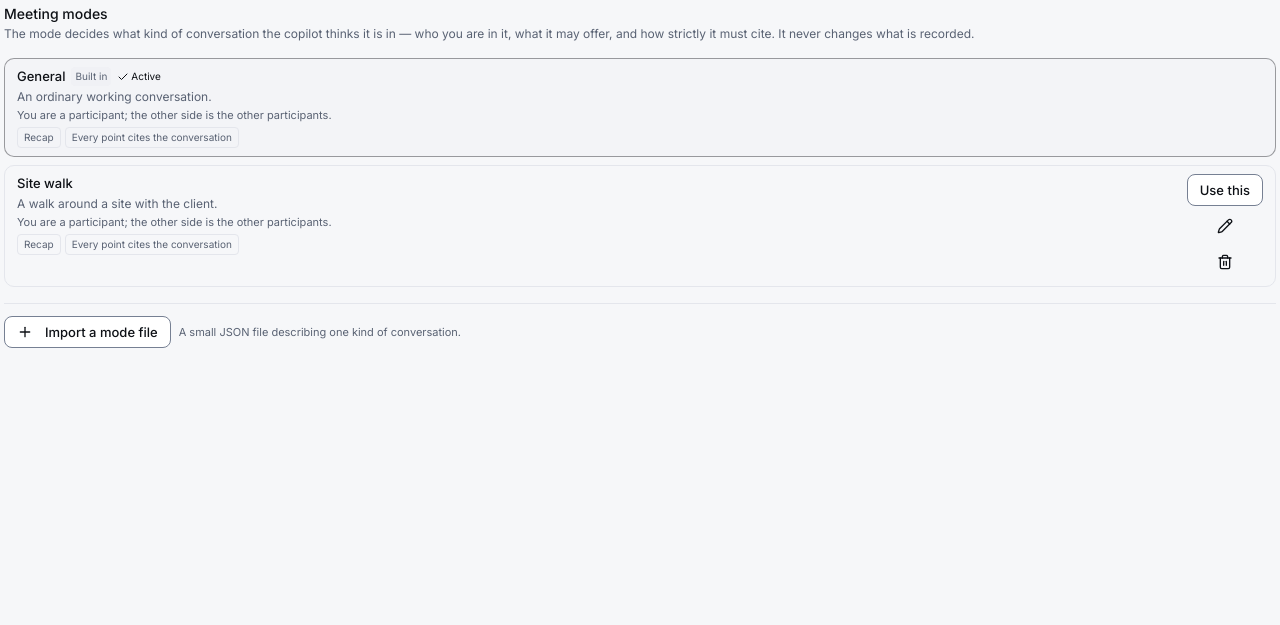
what may be changed › the editor exposes wording only, never what the mode permits
The width and height of the screenshot is (1280, 625).
Expected: the text "Site walk" is shown, 17,174 -> 73,194
Click the button named "edit site walk" at [1225, 226], box 1187,210 -> 1263,242
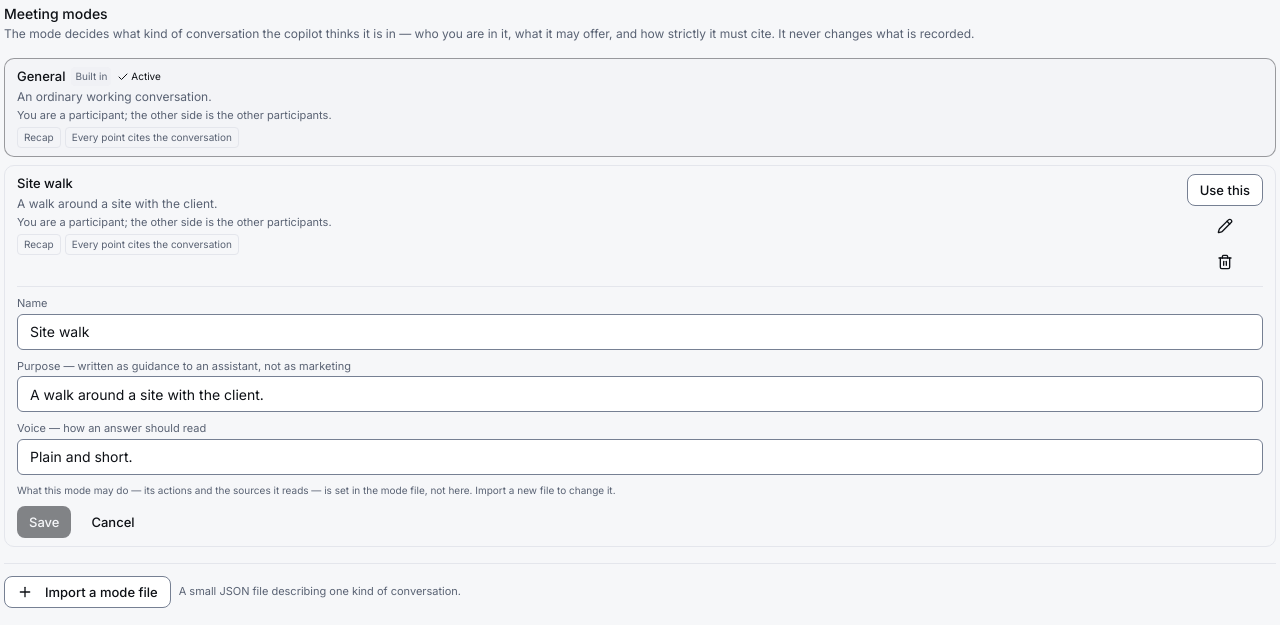
Now the field labelled "Name" is shown, box 17,314 -> 1263,350
Now the field labelled "Purpose" is shown, box 17,376 -> 1263,412
Now the field labelled "Voice — how an answer should read" is shown, box 17,438 -> 1263,474
